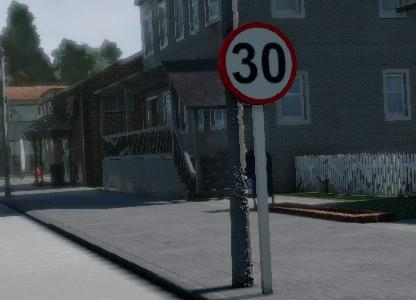Speed_30: (217, 19, 298, 104)
